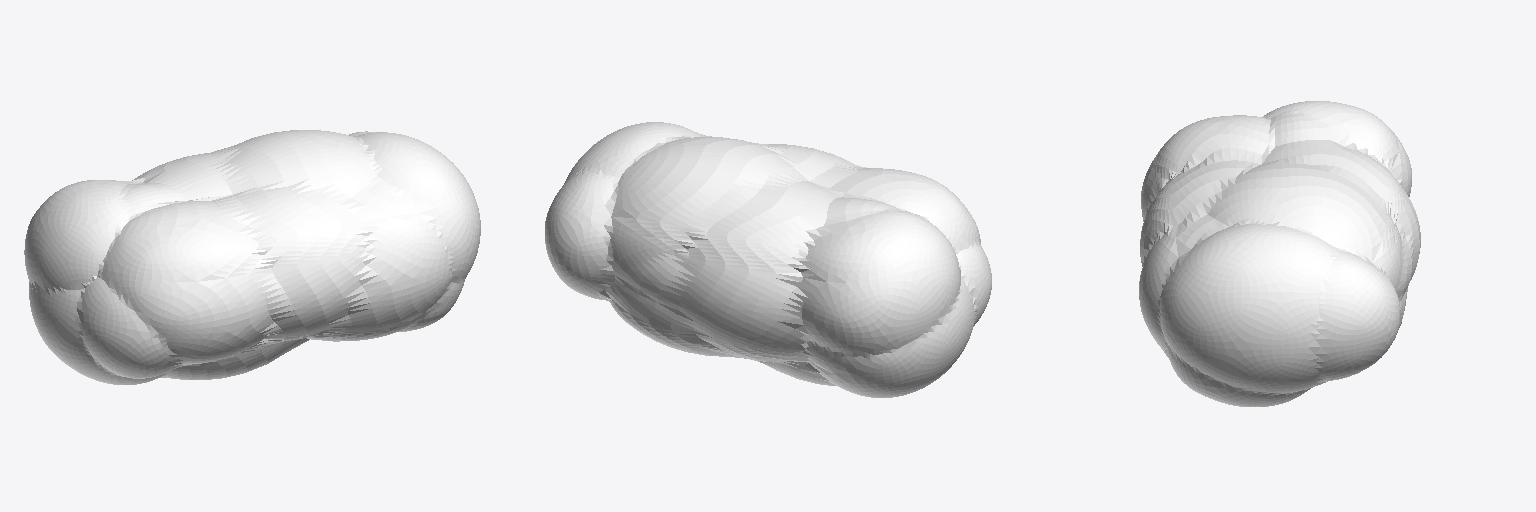
3 views of the same model, side by side, from view 1: azimuth 30°, elevation 25°; view 2: azimuth 150°, elevation 25°; view 3: azimuth 270°, elevation 25° (orthographic).
Parts seen in each view (by area): view 1: ICO球_ICO球.001; view 2: ICO球_ICO球.001; view 3: ICO球_ICO球.001.
Part boxes in pixels (bbox=[...]): ICO球_ICO球.001: bbox=[24, 130, 480, 384]; ICO球_ICO球.001: bbox=[545, 122, 991, 397]; ICO球_ICO球.001: bbox=[1139, 101, 1420, 406].
Bounding box in the file's own units: 4.76 × 2.21 × 2.9.
Materials: 1 (1 with a texture image).